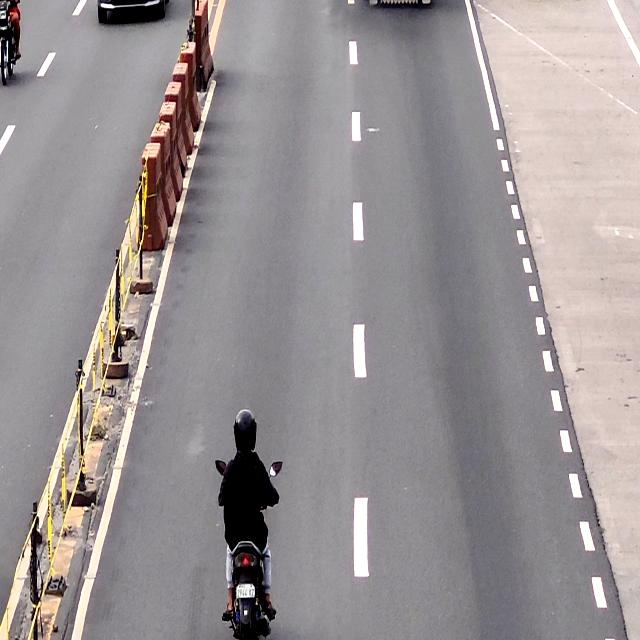License-Plate: (234, 582, 255, 600)
Motorcycle: (216, 459, 283, 640)
